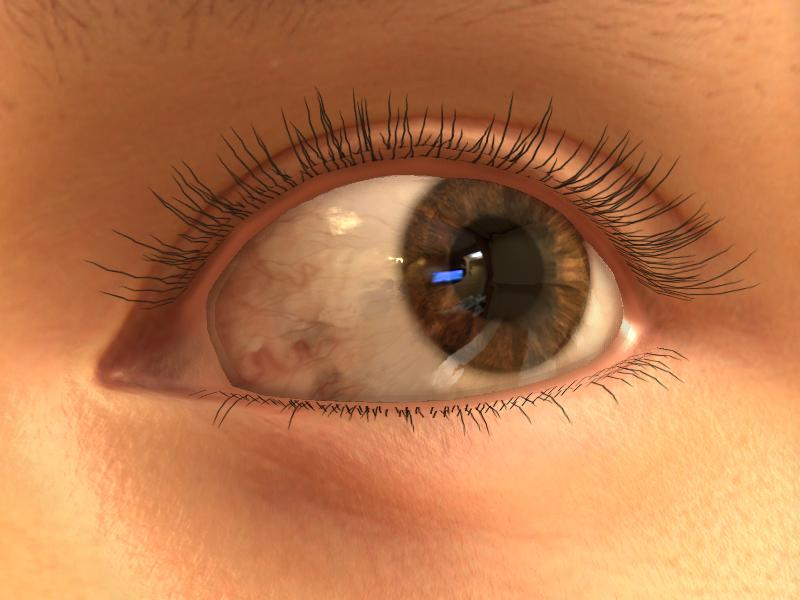eye: (398, 172, 590, 375)
